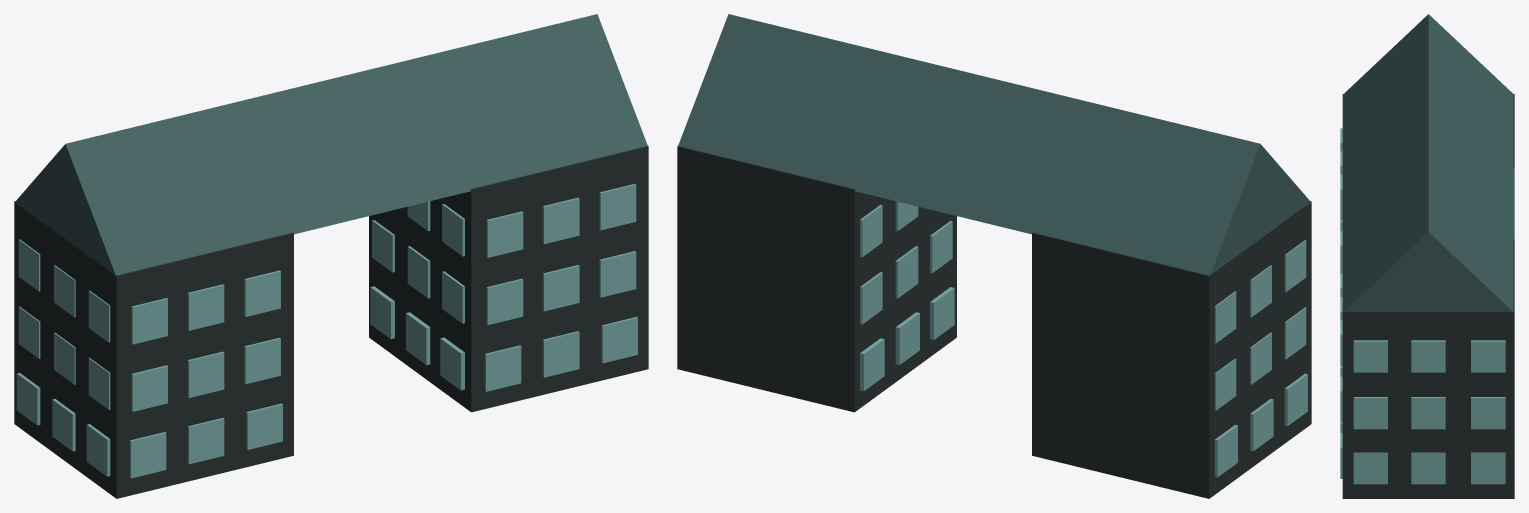
The model's file is Building_009_City_007.fbx.
3 views of the same model, side by side, from view 1: azimuth 30°, elevation 25°; view 2: azimuth 150°, elevation 25°; view 3: azimuth 270°, elevation 25° (orthographic). The views are drawn at different scales.
Visible parts, largest first — view 1: pCube57; view 2: pCube57; view 3: pCube57.
Part boxes in pixels (x1,y1,x2,y2): pCube57: (14,14,648,498); pCube57: (677,14,1311,498); pCube57: (1340,14,1514,498).
Size of the model in its own units: 1517 by 856 by 506.
